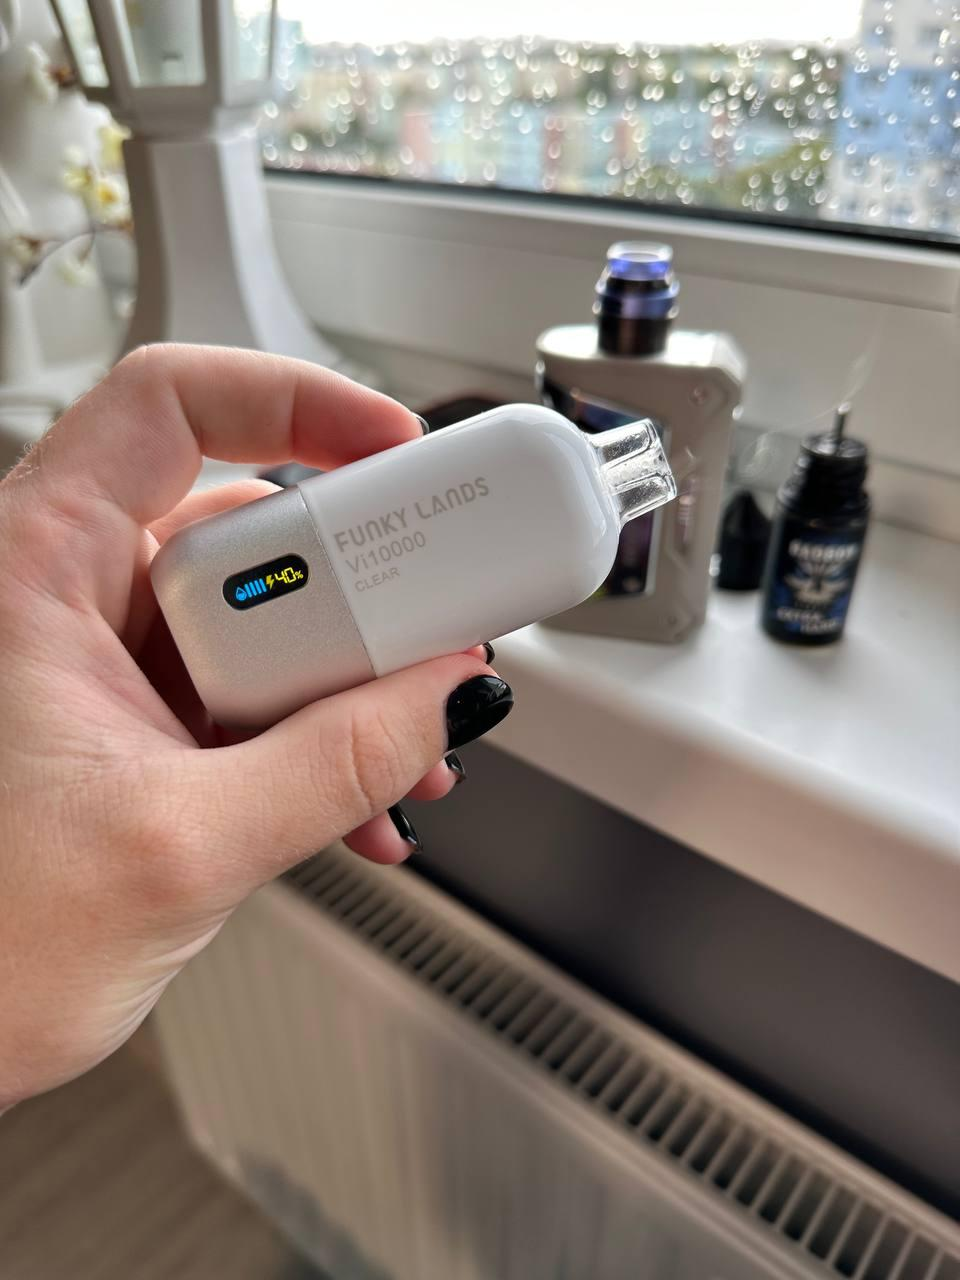Vape: (152, 404, 675, 727)
